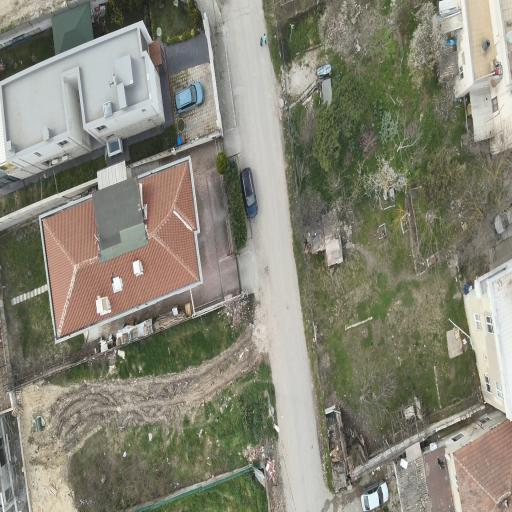car: (240, 167, 258, 219), (175, 82, 204, 113), (361, 481, 389, 512), (493, 210, 511, 239)
person: (264, 34, 267, 44), (260, 38, 263, 46)
